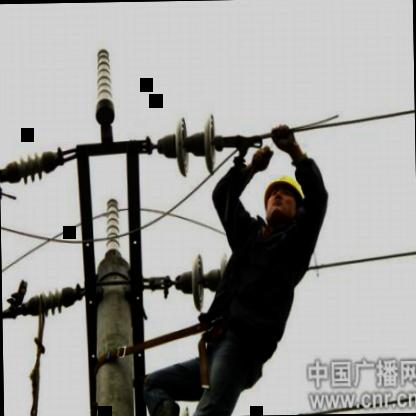helmet: (257, 155, 310, 234)
